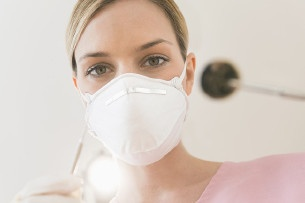Mask: (73, 34, 206, 166)
